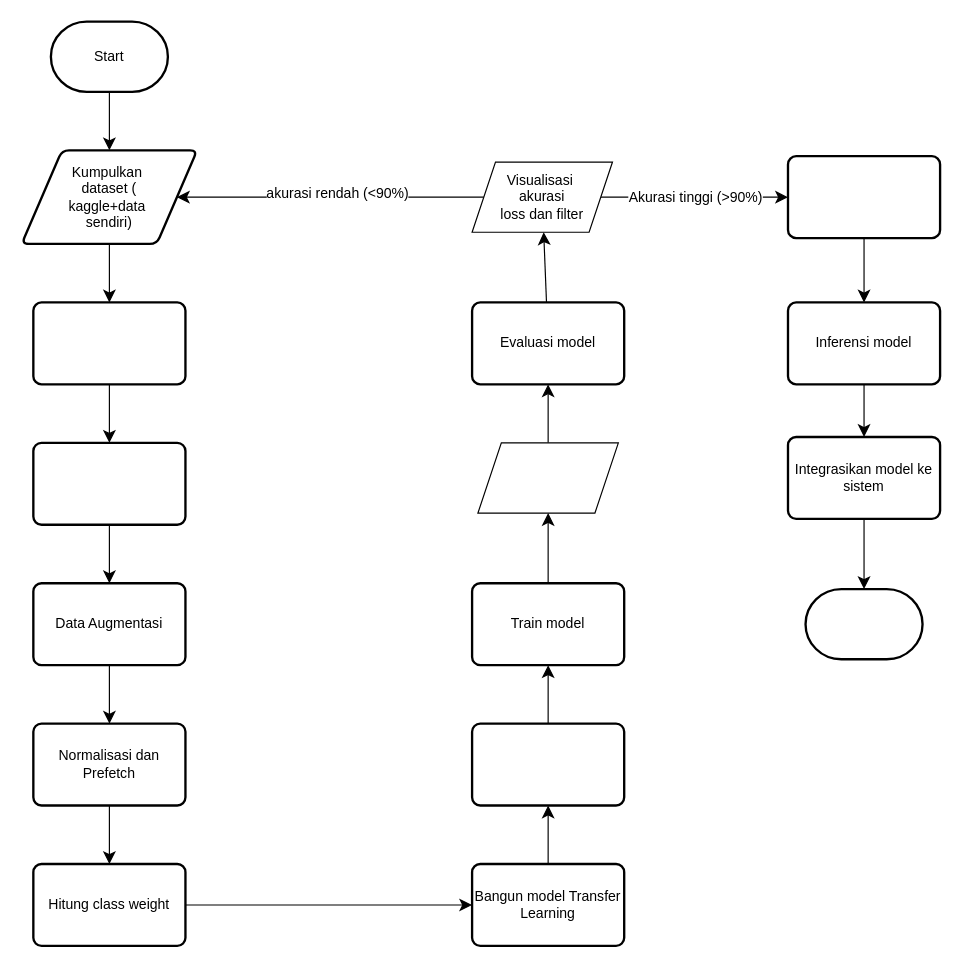
The diagram is 961 pixels wide and 966 high, and some of its shapes have lost their labels. The shapes that lost their labels are listed below. From the top down, each one's centre as x and y in pixels, then its label:
point (863, 196): konversi file .keras menjadi tflite
point (109, 343): Load dataset / membaca dataset
point (109, 483): Preprocessing dataset
point (547, 477): Simpan model dan histori
point (863, 623): End
point (547, 764): Compile model
